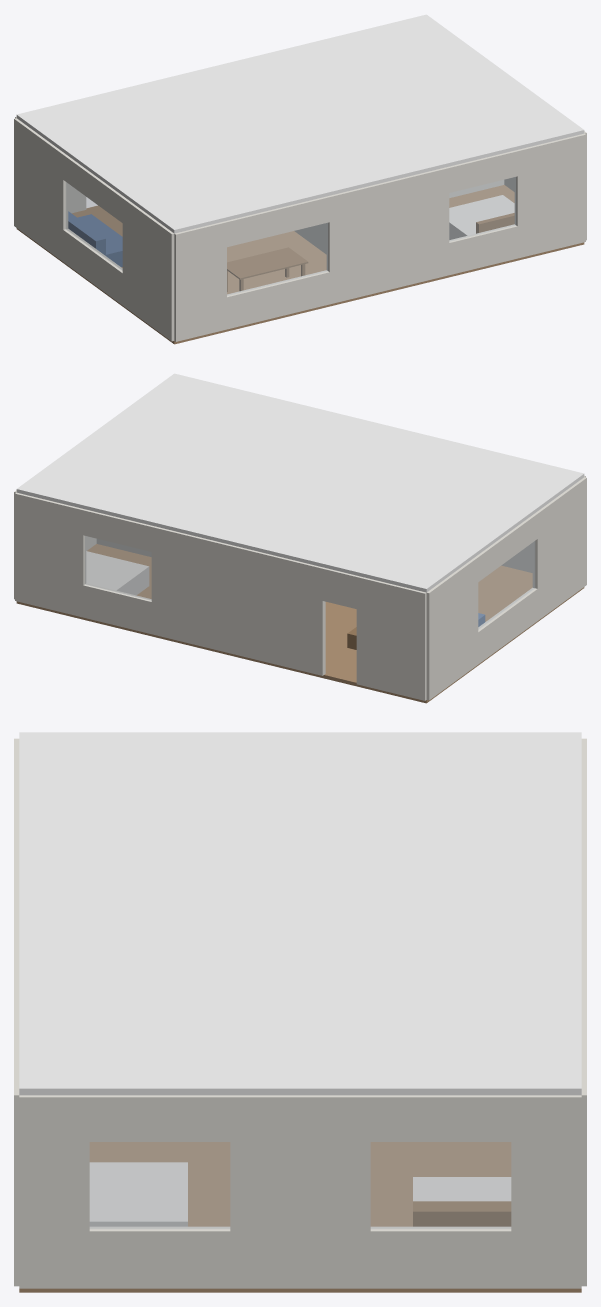
The picture shows the model from 3 angles, top to bottom: view 1: azimuth 30°, elevation 25°; view 2: azimuth 150°, elevation 25°; view 3: azimuth 270°, elevation 25°; orthographic projection. The views are drawn at different scales.
Visible parts, largest first — view 1: Ceiling, Wall_S_1, Wall_S_end, Wall_W_0, Wall_S_0, Wall_W_end, Floor, Wall_S_0_glass, Wall_S_0_sill, Wall_S_1_glass, Wall_S_0_lintel, Wall_W_0_glass (+10 smaller); view 2: Ceiling, Wall_N_1, Wall_N_0, Wall_N_end, Floor, Wall_W_end, Wall_W_0, Wall_N_1_glass, Wall_W_0_glass, Wall_N_1_sill, Wall_W_0_sill, Bed_2 (+4 smaller); view 3: Ceiling, Wall_E_1, Floor, Wall_E_0, Wall_E_end, Wall_E_0_glass, Wall_E_1_glass, Wall_E_0_sill, Wall_E_1_sill, Wall_E_0_lintel, Wall_E_1_lintel, Bed_1 (+5 smaller).
Boxes of the visible parts, left/top/right/bottom form: Ceiling: left=16, top=14, right=584, bottom=233; Wall_S_1: left=326, top=167, right=449, bottom=304; Wall_S_end: left=514, top=133, right=585, bottom=258; Wall_W_0: left=122, top=197, right=174, bottom=341; Wall_S_0: left=174, top=221, right=226, bottom=341; Wall_W_end: left=14, top=118, right=68, bottom=261; Floor: left=16, top=185, right=584, bottom=344; Wall_S_0_glass: left=227, top=223, right=327, bottom=295; Wall_S_0_sill: left=227, top=270, right=329, bottom=329; Wall_S_1_glass: left=449, top=177, right=515, bottom=241; Wall_S_0_lintel: left=226, top=196, right=329, bottom=247; Wall_W_0_glass: left=66, top=182, right=122, bottom=270; Ceiling: left=16, top=373, right=584, bottom=592; Wall_N_1: left=151, top=526, right=325, bottom=675; Wall_N_0: left=356, top=576, right=426, bottom=700; Wall_N_end: left=15, top=492, right=86, bottom=617; Floor: left=16, top=544, right=584, bottom=703; Wall_W_end: left=426, top=556, right=478, bottom=700; Wall_W_0: left=532, top=477, right=586, bottom=620; Wall_N_1_glass: left=85, top=536, right=151, bottom=600; Wall_W_0_glass: left=478, top=541, right=534, bottom=629; Wall_N_1_sill: left=83, top=583, right=151, bottom=633; Wall_W_0_sill: left=478, top=588, right=537, bottom=664; Bed_2: left=86, top=551, right=149, bottom=595; Ceiling: left=19, top=732, right=581, bottom=1095; Wall_E_1: left=230, top=1095, right=370, bottom=1288; Floor: left=19, top=1142, right=581, bottom=1292; Wall_E_0: left=19, top=1095, right=89, bottom=1288; Wall_E_end: left=511, top=1095, right=581, bottom=1288; Wall_E_0_glass: left=90, top=1142, right=229, bottom=1228; Wall_E_1_glass: left=371, top=1142, right=510, bottom=1228; Wall_E_0_sill: left=89, top=1226, right=230, bottom=1288; Wall_E_1_sill: left=370, top=1226, right=511, bottom=1288; Wall_E_0_lintel: left=89, top=1095, right=230, bottom=1141; Wall_E_1_lintel: left=370, top=1095, right=511, bottom=1141; Bed_1: left=89, top=1162, right=187, bottom=1226.
Size of what is drawn, in the model's own units: 12.15 by 3.2 by 8.15.
